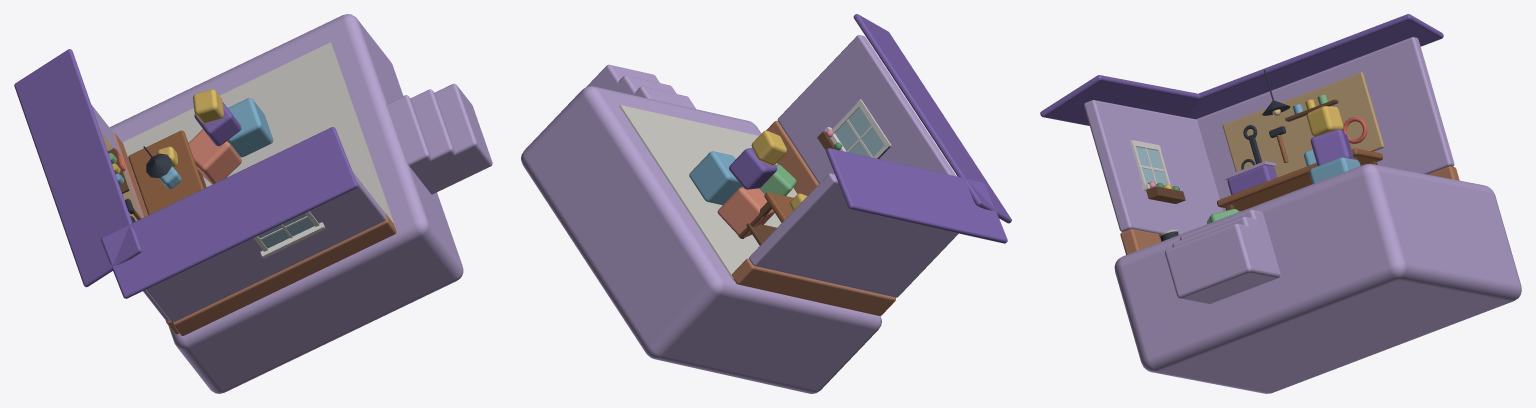
The model's file is station-skills.glb.
3 renders of one model, left to right at view 1: azimuth 30°, elevation 25°; view 2: azimuth 150°, elevation 25°; view 3: azimuth 270°, elevation 25°, orthographic. The views are drawn at different scales.
Parts seen in each view (by area): view 1: skills; view 2: skills; view 3: skills.
Boxes of the visible parts, left/top/right/bottom form: skills: left=14, top=14, right=492, bottom=393; skills: left=521, top=14, right=1011, bottom=393; skills: left=1040, top=14, right=1521, bottom=393.
Size of the model in its own units: 3.98 by 2.93 by 3.81.
